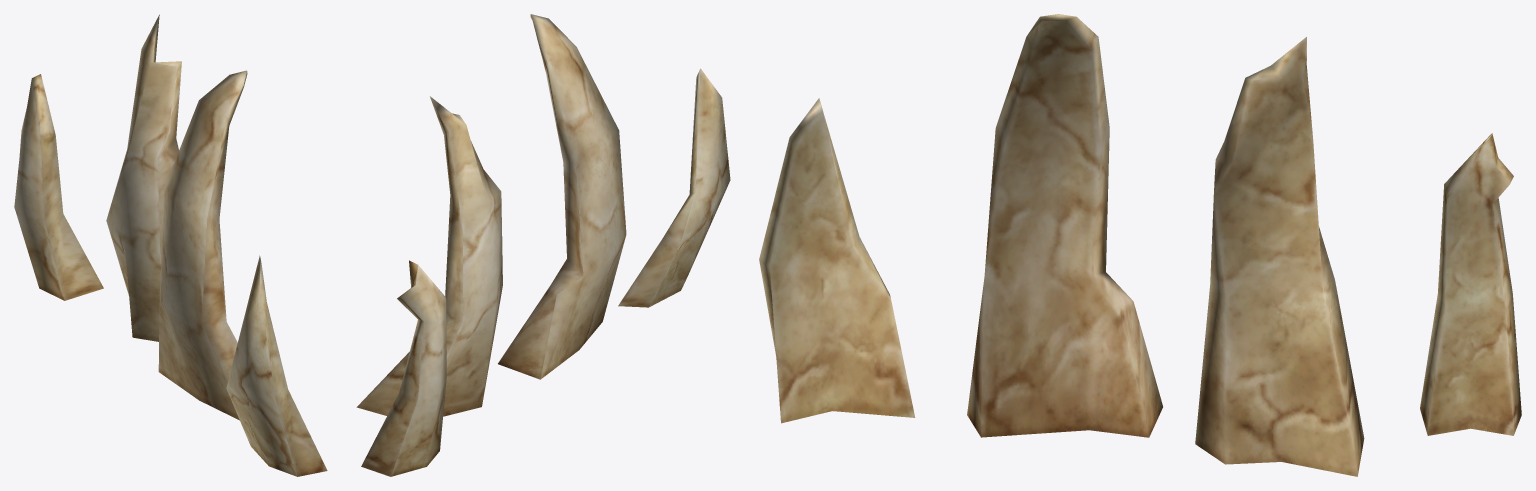
The model's file is obj_mamaprripbone01.glb.
3 renders of one model, left to right at view 1: azimuth 30°, elevation 25°; view 2: azimuth 150°, elevation 25°; view 3: azimuth 270°, elevation 25°, orthographic. The views are drawn at different scales.
Parts seen in each view (by area): view 1: part_0; view 2: part_0; view 3: part_0.
Boxes of the visible parts, x1=… form: part_0: x1=14, y1=14, x2=327, y2=476; part_0: x1=356, y1=14, x2=730, y2=476; part_0: x1=759, y1=14, x2=1521, y2=476.
Bounding box in the file's own units: 2.64 × 5.3 × 8.64.
1 material, 1 textured.
